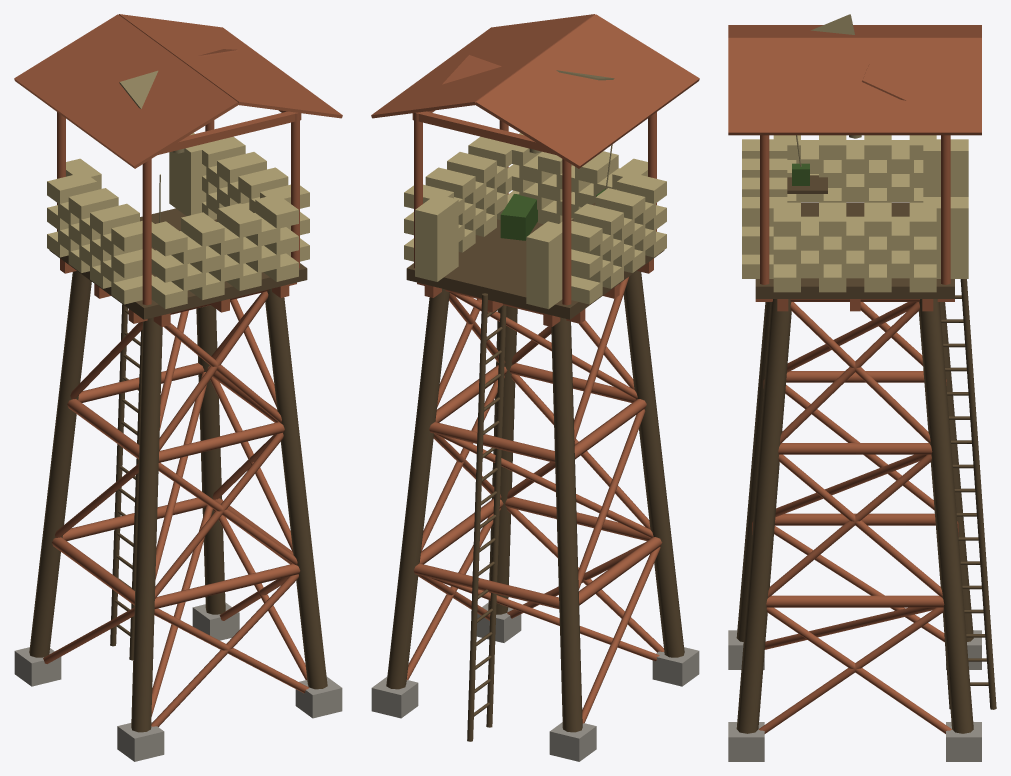
Rendered from firebase-guard-tower-about.glb.
The picture shows the model from 3 angles, left to right: view 1: azimuth 30°, elevation 25°; view 2: azimuth 150°, elevation 25°; view 3: azimuth 270°, elevation 25°; orthographic projection. The views are drawn at different scales.
Parts seen in each view (by area): view 1: Mesh_TinRoofA, Mesh_LegFR, Mesh_TinRoofB, Mesh_LegFL, Mesh_LegBR, Mesh_LegBL, Mesh_PlatformDeck, Mesh_HBeamF_1, Mesh_DiagF2_1, Mesh_TowerLadderLeftRail, Mesh_DiagF2_2, Mesh_HBeamF_2 (+46 smaller); view 2: Mesh_TinRoofA, Mesh_LegBR, Mesh_LegBL, Mesh_LegFR, Mesh_TinRoofB, Mesh_PlatformDeck, Mesh_LegFL, Mesh_TowerLadderLeftRail, Mesh_TowerLadderRightRail, Mesh_HBeamB_1, Mesh_TopBeamZ1, Mesh_DiagR1_1 (+45 smaller); view 3: Mesh_TinRoofB, Mesh_LegFL, Mesh_LegBL, Mesh_PlatformDeck, Mesh_TowerLadderLeftRail, Mesh_TinRoofA, Mesh_LegFR, Mesh_HBeamL_1, Mesh_LegBR, Mesh_HBeamL_2, Mesh_HBeamR_1, Mesh_DiagL1_1 (+60 smaller).
Part boxes in pixels (left/top/right/bottom): Mesh_TinRoofA: left=14, top=14, right=238, bottom=168; Mesh_LegFR: left=131, top=317, right=162, bottom=732; Mesh_TinRoofB: left=119, top=14, right=342, bottom=118; Mesh_LegFL: left=265, top=288, right=327, bottom=689; Mesh_LegBR: left=29, top=271, right=91, bottom=657; Mesh_LegBL: left=196, top=305, right=225, bottom=614; Mesh_PlatformDeck: left=49, top=208, right=307, bottom=319; Mesh_HBeamF_1: left=154, top=564, right=300, bottom=608; Mesh_DiagF2_1: left=151, top=574, right=298, bottom=726; Mesh_TowerLadderLeftRail: left=110, top=304, right=127, bottom=646; Mesh_DiagF2_2: left=155, top=433, right=283, bottom=598; Mesh_HBeamF_2: left=158, top=422, right=284, bottom=462; Mesh_TinRoofA: left=475, top=14, right=699, bottom=168; Mesh_LegBR: left=551, top=317, right=582, bottom=732; Mesh_LegBL: left=386, top=288, right=449, bottom=689; Mesh_LegFR: left=623, top=271, right=684, bottom=657; Mesh_TinRoofB: left=371, top=14, right=594, bottom=118; Mesh_PlatformDeck: left=406, top=218, right=664, bottom=319; Mesh_LegFL: left=488, top=306, right=517, bottom=614; Mesh_TowerLadderLeftRail: left=467, top=293, right=487, bottom=741; Mesh_TowerLadderRightRail: left=486, top=305, right=506, bottom=727; Mesh_HBeamB_1: left=413, top=563, right=559, bottom=608; Mesh_TopBeamZ1: left=412, top=111, right=555, bottom=154; Mesh_DiagR1_1: left=582, top=547, right=660, bottom=723; Mesh_TinRoofB: left=728, top=38, right=981, bottom=135; Mesh_LegFL: left=736, top=299, right=791, bottom=733; Mesh_LegBL: left=918, top=299, right=973, bottom=733; Mesh_PlatformDeck: left=755, top=202, right=954, bottom=298; Mesh_TowerLadderLeftRail: left=960, top=279, right=996, bottom=709; Mesh_TinRoofA: left=728, top=25, right=981, bottom=37; Mesh_LegFR: left=736, top=302, right=770, bottom=641; Mesh_HBeamL_1: left=766, top=595, right=944, bottom=607; Mesh_LegBR: left=940, top=302, right=973, bottom=641; Mesh_HBeamL_2: left=778, top=443, right=932, bottom=454; Mesh_HBeamR_1: left=774, top=513, right=935, bottom=525; Mesh_DiagL1_1: left=766, top=607, right=951, bottom=733.
Size of the model in its own units: 2.81 by 8.17 by 2.96.
Materials: 4 (4 with a texture image).
